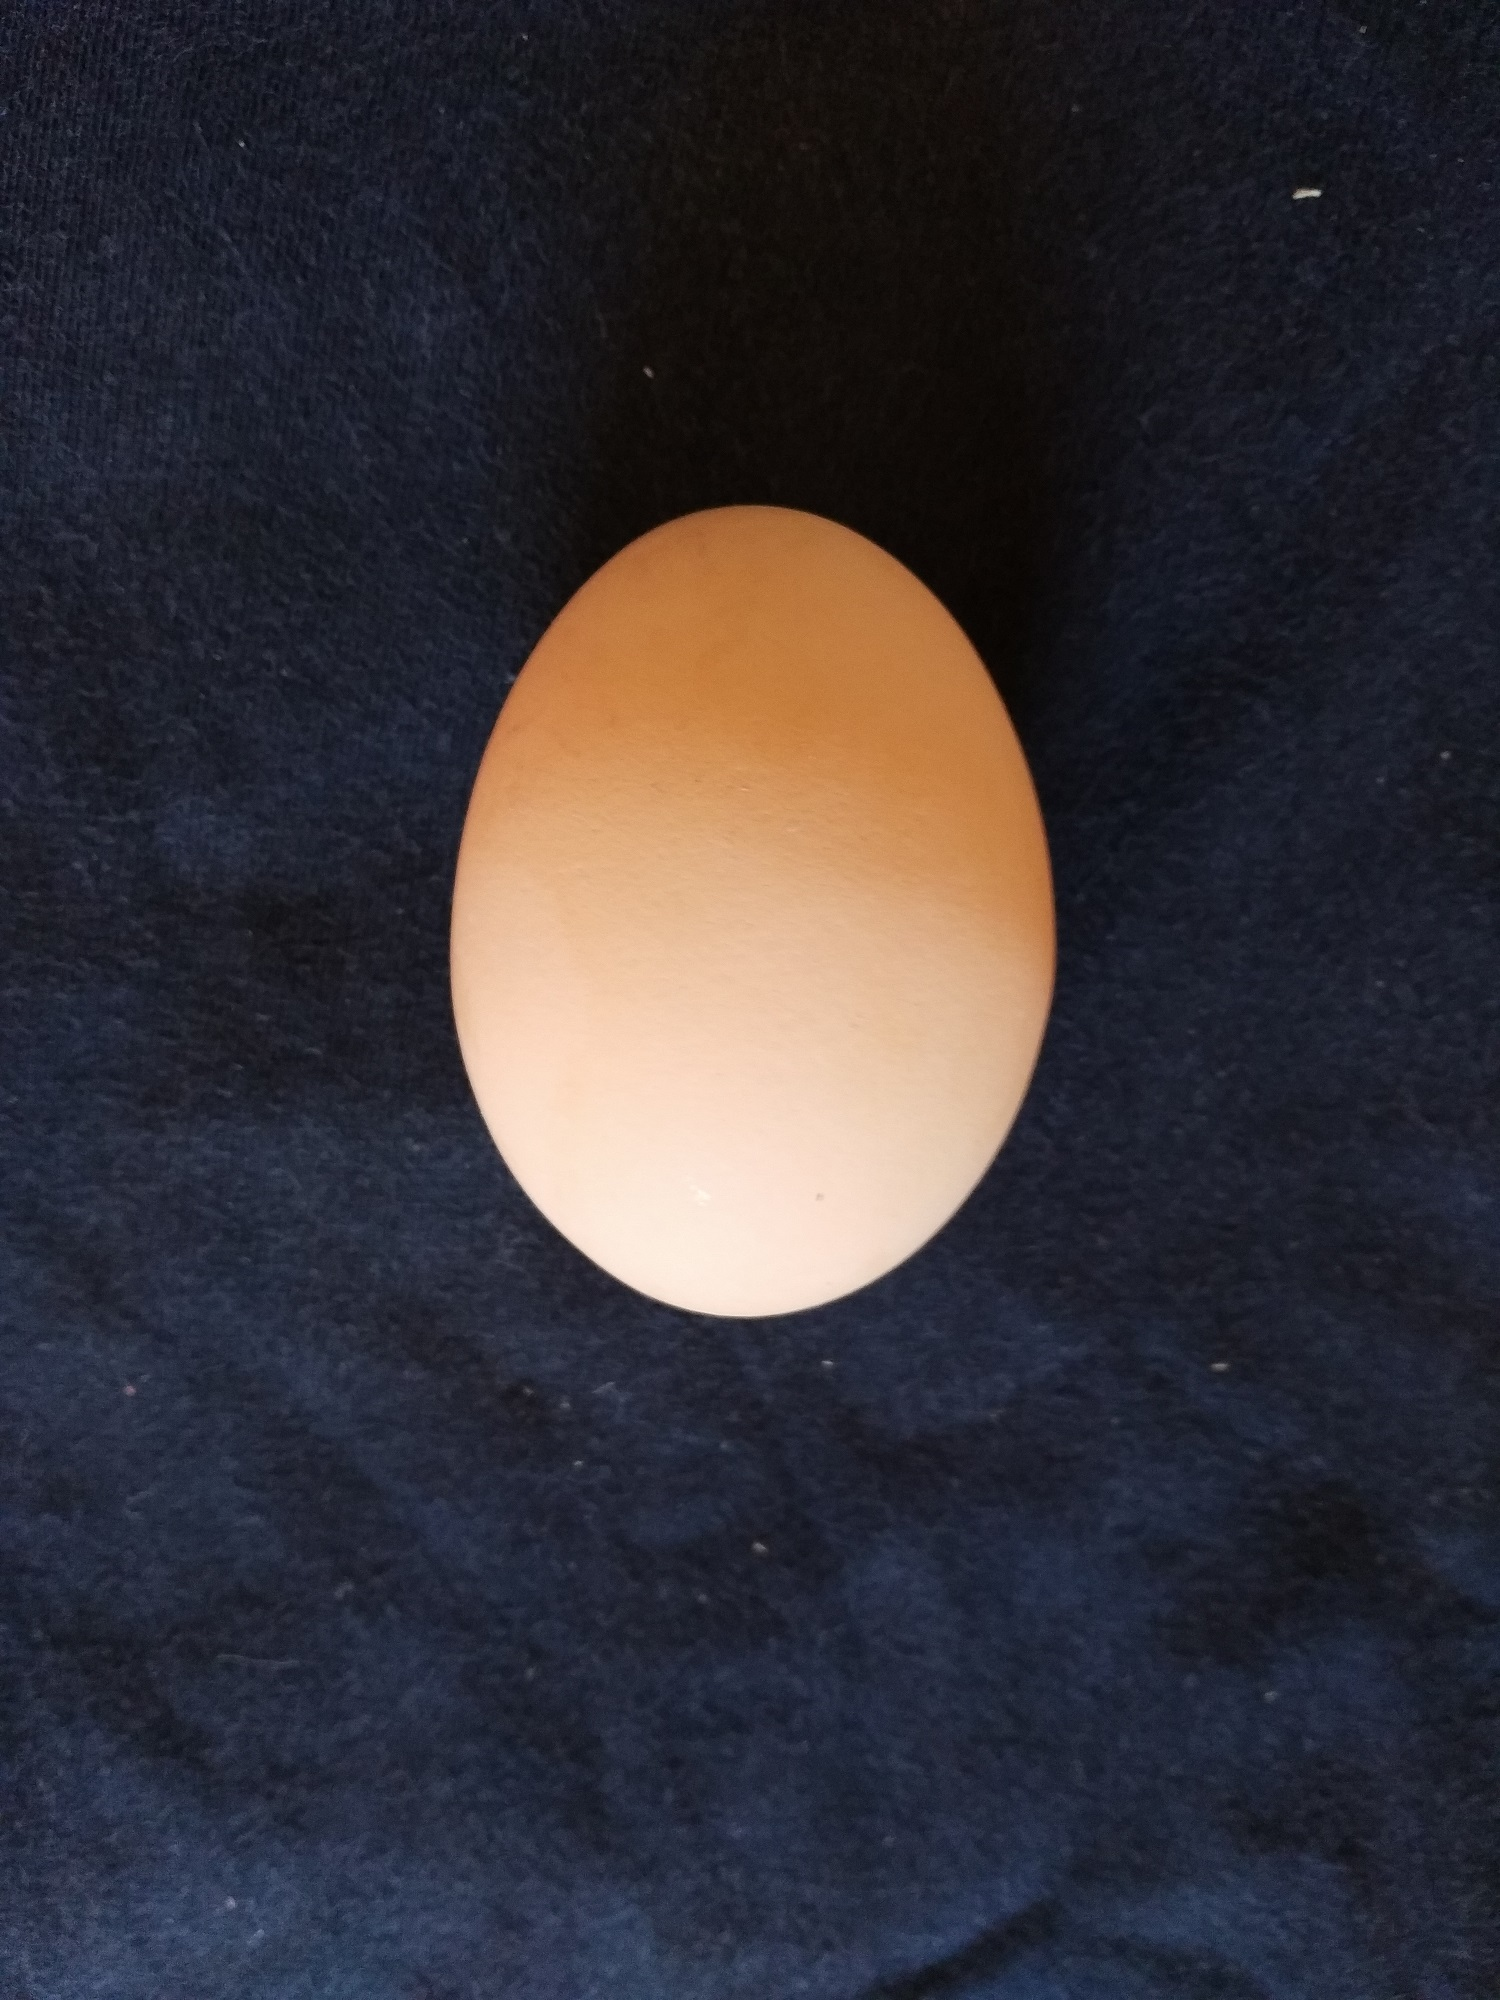Female: (444, 499, 1062, 1321)
